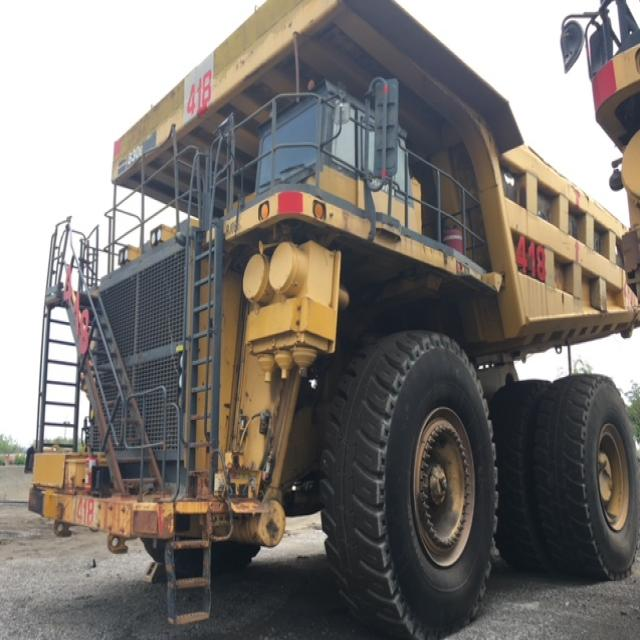dump_truck: (15, 3, 639, 624)
